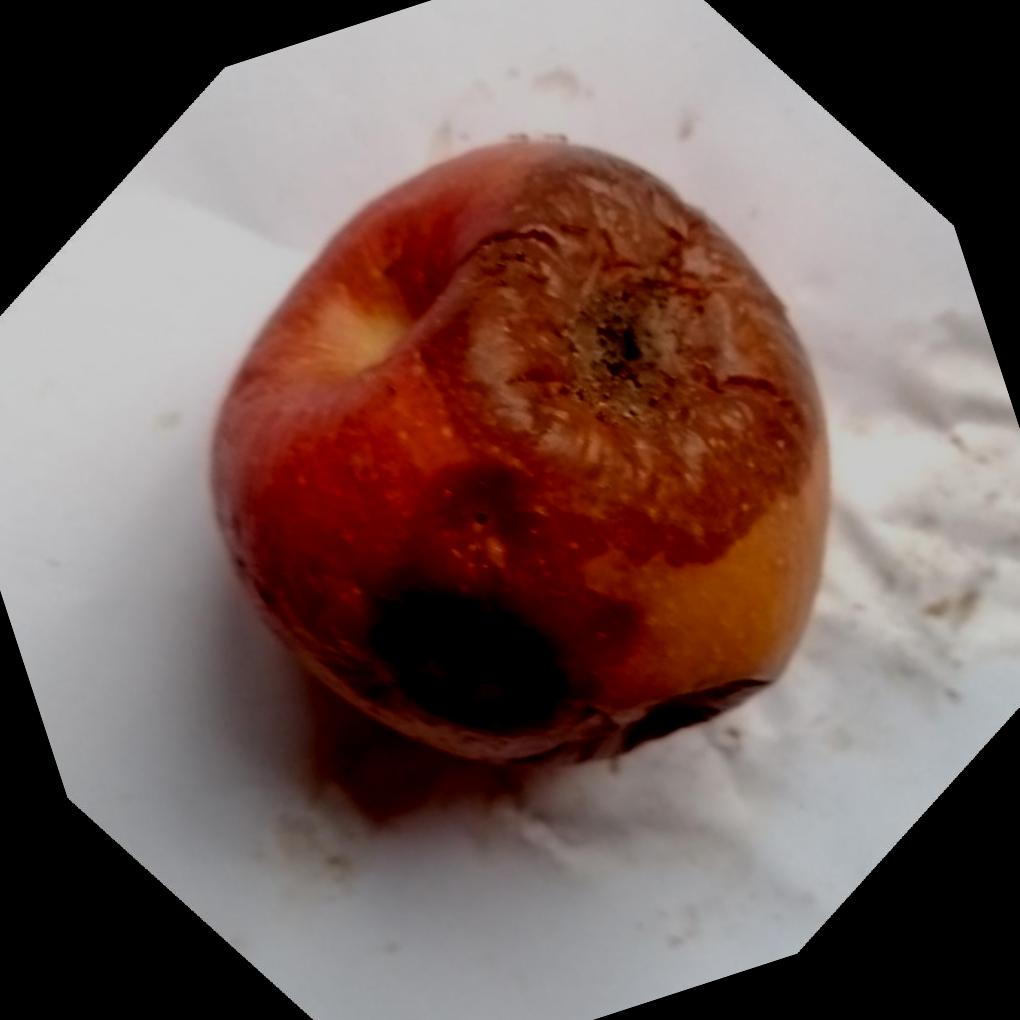FreshOrange: (206, 135, 835, 770)
